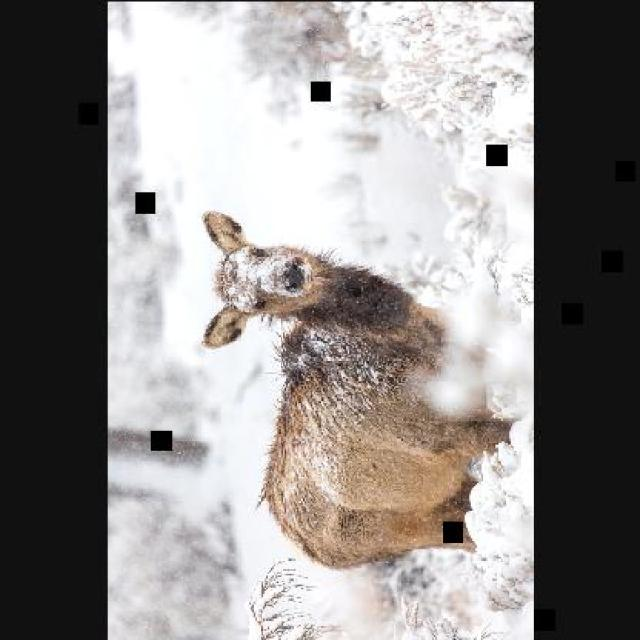unauthorized: (198, 208, 512, 570)
